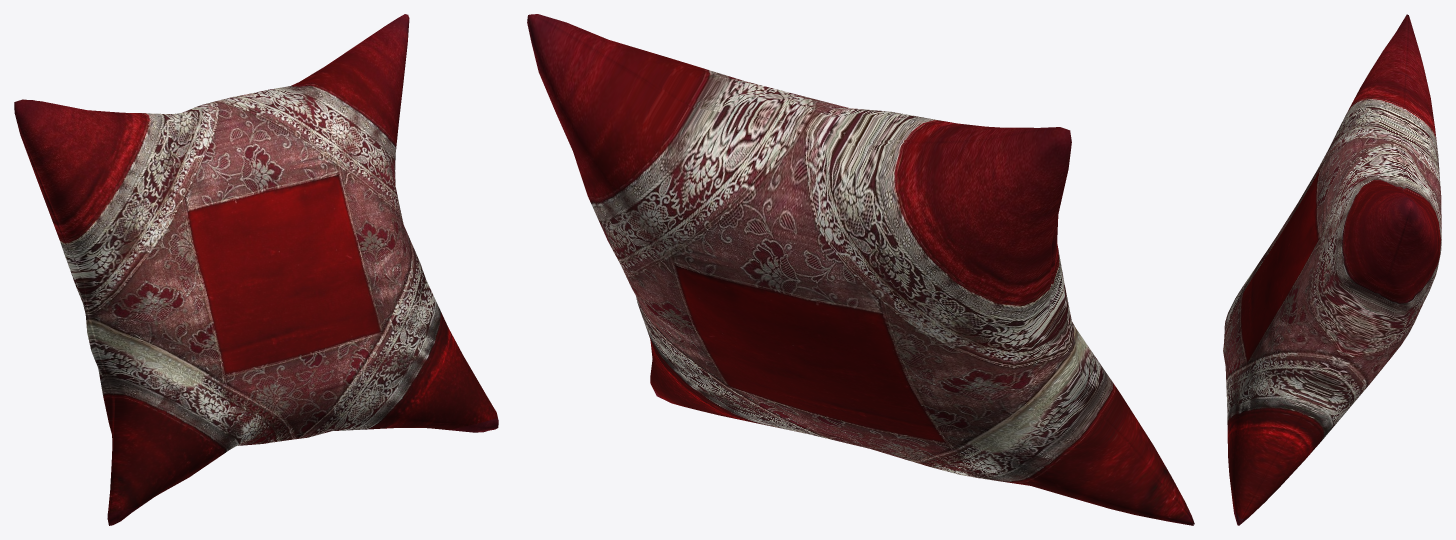
The model's file is Pillow 2.fbx.
3 views of the same model, side by side, from view 1: azimuth 30°, elevation 25°; view 2: azimuth 150°, elevation 25°; view 3: azimuth 270°, elevation 25° (orthographic). The views are drawn at different scales.
Visible parts, largest first — view 1: pillow 2; view 2: pillow 2; view 3: pillow 2.
Part boxes in pixels (left/top/right/bottom): pillow 2: left=14, top=14, right=498, bottom=525; pillow 2: left=527, top=14, right=1194, bottom=525; pillow 2: left=1223, top=14, right=1441, bottom=525.
Bounding box in the file's own units: 16.64 × 14.34 × 8.51.
Materials: 1 (1 with a texture image).
